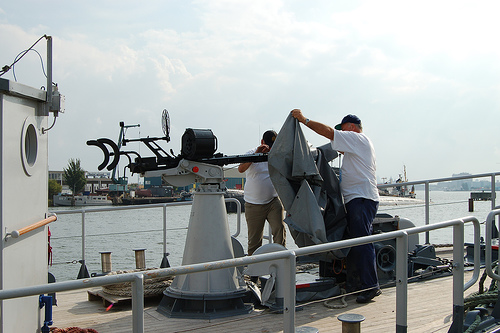rifle: (87, 112, 263, 191)
